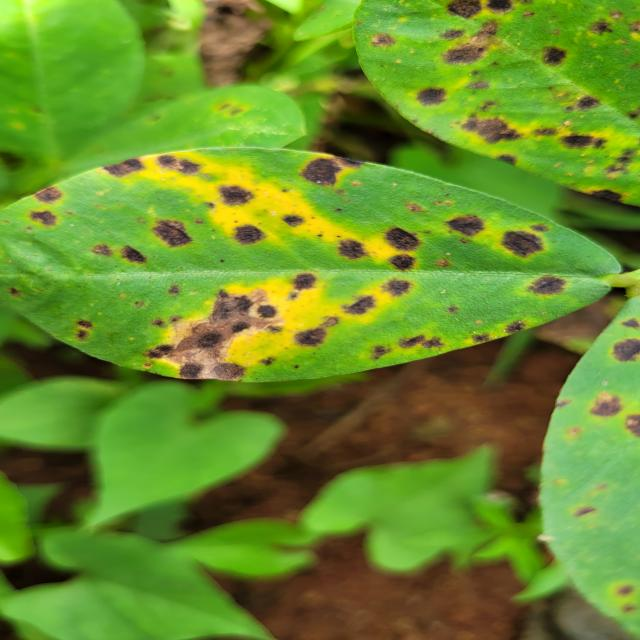Ground nut_tikka leaf spot: (6, 154, 624, 380), (353, 3, 640, 204), (542, 307, 636, 638)
